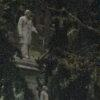Statue: (11, 3, 40, 69)
